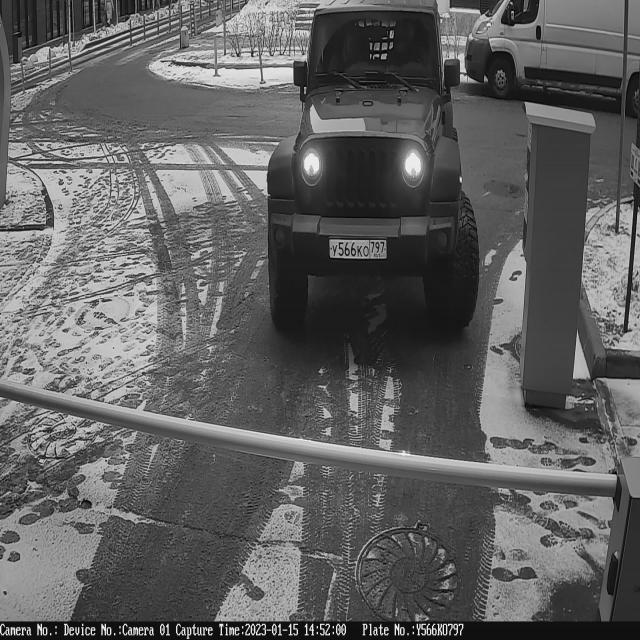car-plate-numbers: (326, 232, 390, 271)
